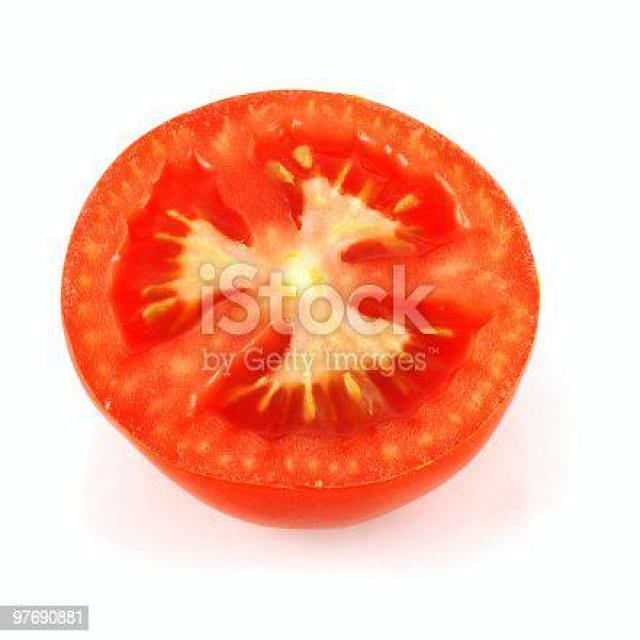Tomato: (63, 88, 544, 532)
